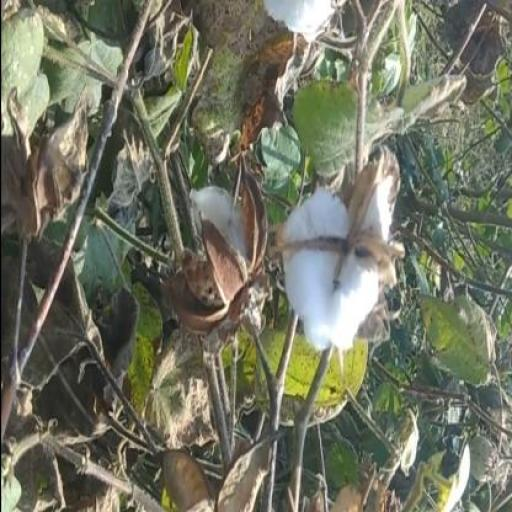cotton_ready: (258, 143, 404, 362)
